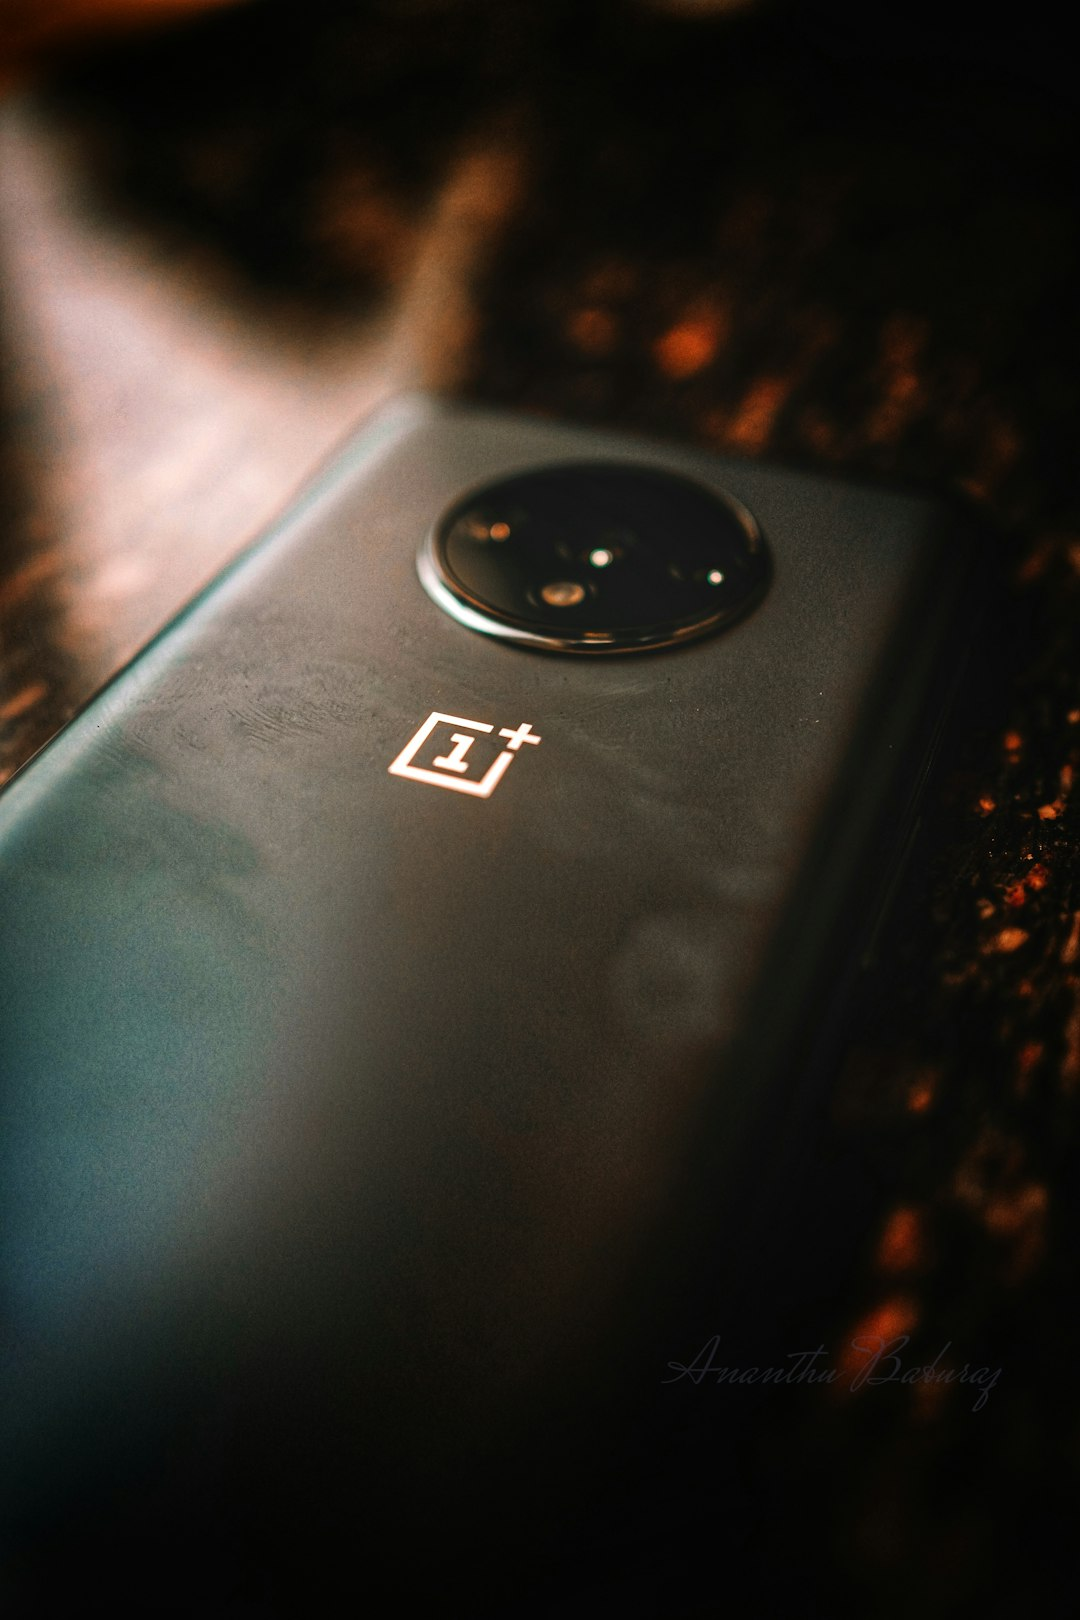phone: (1, 400, 996, 1606)
